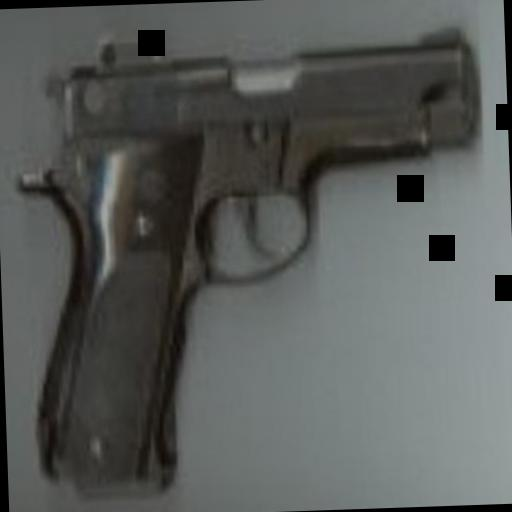Handgun: (13, 16, 493, 501)
